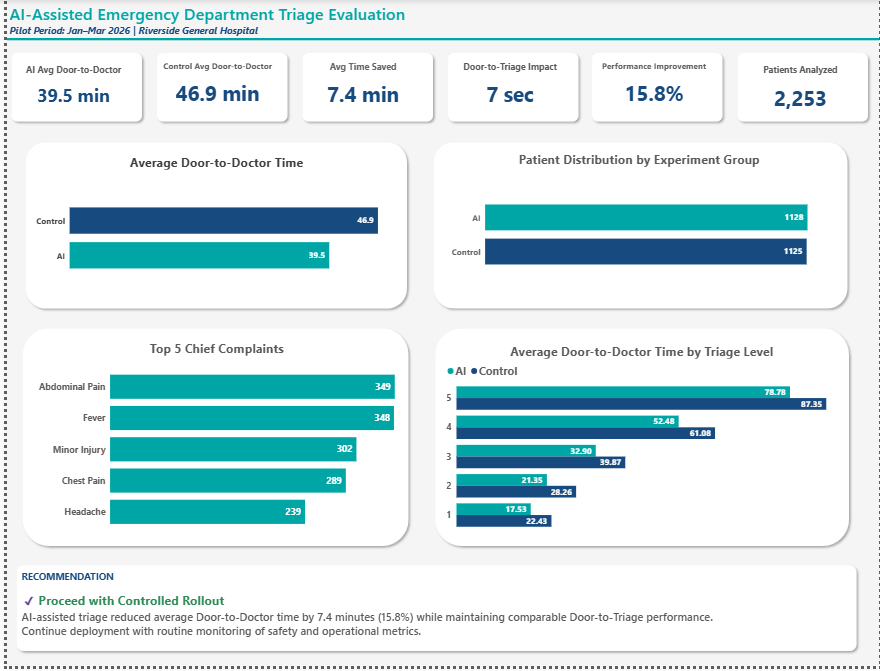

Layout of this report page (visuals, bound fields, positions):
{"tool":"powerbi","page":{"name":"Dashboard","canvas":[1700,1300],"ordinal":0},"visuals":[{"type":"textbox","box":[0,0,1573.8,120.6],"z":0},{"type":"shape","box":[17.6,261.3,781.1,362.1],"z":0,"group":"g11"},{"type":"shape","box":[814.1,261.3,844.3,361.9],"z":0,"group":"g10"},{"type":"clusteredBarChart","title":"Patient Distribution by Experiment Group","fields":{"Category":["Riverside_General_ED_AB_Test.Experiment_Group"],"Y":["Count(Riverside_General_ED_AB_Test.Patient_ID)"]},"box":[862.2,297.5,745.5,289.5],"z":1000,"group":"g10"},{"type":"shape","box":[11.5,623.2,789.8,462.4],"z":1000,"group":"g12"},{"type":"group","id":"g1","title":"Group 5","box":[0,96,272,151.1],"z":2000},{"type":"clusteredBarChart","title":"Top 5 Chief Complaints","fields":{"Y":["Count(Riverside_General_ED_AB_Test.Patient_ID)"],"Category":["Riverside_General_ED_AB_Test.Chief_Complaint"]},"box":[54.6,657.7,706.5,396.3],"z":3000,"group":"g12"},{"type":"shape","box":[0,96,272,151.1],"z":4000,"group":"g1"},{"type":"shape","box":[283.2,96,272,151.1],"z":4000,"group":"g6"},{"type":"shape","box":[566.4,96,272,151.1],"z":4000,"group":"g3"},{"type":"shape","box":[849.6,96,272,151.1],"z":4000,"group":"g4"},{"type":"shape","box":[1132.8,96,272,151.1],"z":4000,"group":"g5"},{"type":"group","id":"g2","title":"Group 5","box":[1416,96,272,151.1],"z":4000},{"type":"shape","box":[1416,96,272,151.1],"z":4000,"group":"g2"},{"type":"group","id":"g3","title":"Group 5","box":[566.4,96,272,151.1],"z":5000},{"type":"cardVisual","title":"Avg Time Saved","fields":{"Data":["Riverside_General_ED_AB_Test.Average Time Saved Display"]},"box":[581.7,112.2,224.7,115.8],"z":5000,"group":"g3"},{"type":"cardVisual","title":"Door-to-Triage Impact","fields":{"Data":["Riverside_General_ED_AB_Test.Door-to-Triage Difference Display"]},"box":[866.7,112.2,224.7,115.8],"z":5000,"group":"g4"},{"type":"cardVisual","title":"Performance Improvement","fields":{"Data":["Riverside_General_ED_AB_Test.Performance Improvement Display"]},"box":[1149.5,112.2,224.7,115.8],"z":5000,"group":"g5"},{"type":"cardVisual","title":"Control Avg Door-to-Doctor","fields":{"Data":["Riverside_General_ED_AB_Test.Control Avg Time Display"]},"box":[299,114.5,224.7,113.5],"z":5000,"group":"g6"},{"type":"cardVisual","title":"AI Avg Door-to-Doctor","fields":{"Data":["Riverside_General_ED_AB_Test.AI Avg Time Display"]},"box":[16.2,119.2,224.7,108.9],"z":5000,"group":"g1"},{"type":"cardVisual","title":"Patients Analyzed","fields":{"Data":["Riverside_General_ED_AB_Test.Patients Analysed Display"]},"box":[1440,120,216,120],"z":5000,"group":"g2"},{"type":"group","id":"g4","title":"Group 5","box":[849.6,96,272,151.1],"z":6000},{"type":"group","id":"g5","title":"Group 5","box":[1132.8,96,272,151.1],"z":7000},{"type":"group","id":"g6","title":"Group 5","box":[283.2,96,272,151.1],"z":8000},{"type":"clusteredBarChart","title":"Average Door-to-Doctor Time","fields":{"Category":["Riverside_General_ED_AB_Test.Experiment_Group"],"Y":["Avg(Riverside_General_ED_AB_Test.Door_to_Doctor_Min)"]},"box":[48.5,297.6,718,298.7],"z":8000,"group":"g11"},{"type":"shape","box":[815.5,623.2,844.3,462.4],"z":8006,"group":"g8"},{"type":"group","id":"g7","title":"Group 1","box":[17.6,261.3,781.1,362.1],"z":9000},{"type":"clusteredBarChart","title":"Average Door-to-Doctor Time by Triage Level","fields":{"Category":["Riverside_General_ED_AB_Test.Triage_Level"],"Y":["Avg(Riverside_General_ED_AB_Test.Door_to_Doctor_Min)"],"Series":["Riverside_General_ED_AB_Test.Experiment_Group"]},"box":[850.3,662.8,772.6,382],"z":9000,"group":"g8"},{"type":"shape","box":[0,1085.6,1674.8,205.1],"z":9000,"group":"g9"},{"type":"group","id":"g8","title":"Group 4","box":[815.5,623.2,844.3,462.4],"z":10000},{"type":"group","id":"g9","title":"Group 4","box":[0,1085.6,1674.8,205.1],"z":11000},{"type":"textbox","box":[23,1109.7,1619.8,149.3],"z":11001,"group":"g9"},{"type":"shape","box":[0,74.7,1700,11.5],"z":12000},{"type":"group","id":"g10","title":"Group 2","box":[814.1,261.3,844.3,361.9],"z":13000},{"type":"group","id":"g11","title":"Group 3","box":[17.6,261.3,781.1,362.1],"z":13001,"group":"g7"},{"type":"group","id":"g12","title":"Group 6","box":[11.5,623.2,789.8,462.4],"z":13001}]}

Visuals, with their boxes in screenshot pixels (x1, y1, x2, y2), scaled from the page's 1700x1300 canvas onto the 880x671 screenshot:
textbox: (0, 0, 815, 62)
shape: (9, 135, 413, 322)
shape: (421, 135, 858, 322)
"Patient Distribution by Experiment Group" clusteredBarChart: (446, 154, 832, 303)
shape: (6, 322, 415, 560)
"Group 5" group: (0, 50, 141, 128)
"Top 5 Chief Complaints" clusteredBarChart: (28, 339, 394, 544)
shape: (0, 50, 141, 128)
shape: (147, 50, 287, 128)
shape: (293, 50, 434, 128)
shape: (440, 50, 581, 128)
shape: (586, 50, 727, 128)
"Group 5" group: (733, 50, 874, 128)
shape: (733, 50, 874, 128)
"Group 5" group: (293, 50, 434, 128)
"Avg Time Saved" cardVisual: (301, 58, 417, 118)
"Door-to-Triage Impact" cardVisual: (449, 58, 565, 118)
"Performance Improvement" cardVisual: (595, 58, 711, 118)
"Control Avg Door-to-Doctor" cardVisual: (155, 59, 271, 118)
"AI Avg Door-to-Doctor" cardVisual: (8, 62, 125, 118)
"Patients Analyzed" cardVisual: (745, 62, 857, 124)
"Group 5" group: (440, 50, 581, 128)
"Group 5" group: (586, 50, 727, 128)
"Group 5" group: (147, 50, 287, 128)
"Average Door-to-Doctor Time" clusteredBarChart: (25, 154, 397, 308)
shape: (422, 322, 859, 560)
"Group 1" group: (9, 135, 413, 322)
"Average Door-to-Doctor Time by Triage Level" clusteredBarChart: (440, 342, 840, 539)
shape: (0, 560, 867, 666)
"Group 4" group: (422, 322, 859, 560)
"Group 4" group: (0, 560, 867, 666)
textbox: (12, 573, 850, 650)
shape: (0, 39, 879, 44)
"Group 2" group: (421, 135, 858, 322)
"Group 3" group: (9, 135, 413, 322)
"Group 6" group: (6, 322, 415, 560)
